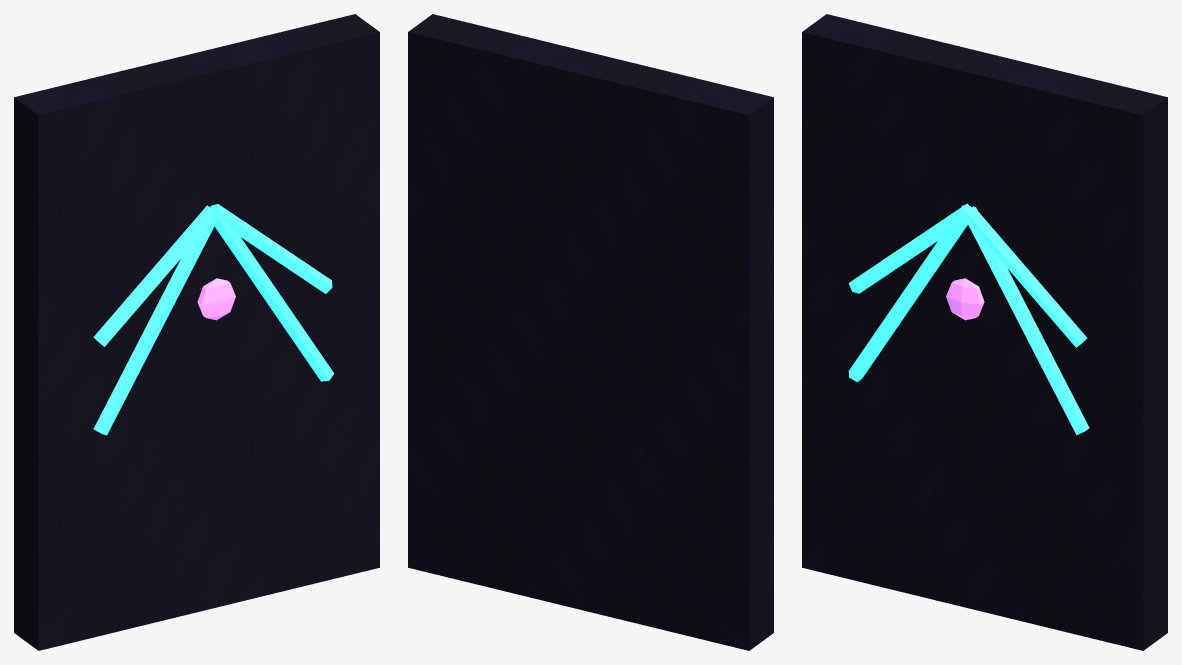
The model's file is Ruin_Observer_Relief.glb.
3 views of the same model, side by side, from view 1: azimuth 30°, elevation 25°; view 2: azimuth 150°, elevation 25°; view 3: azimuth 330°, elevation 25° (orthographic).
Parts seen in each view (by area): view 1: Ruin_Observer_Relief; view 2: Ruin_Observer_Relief; view 3: Ruin_Observer_Relief.
Part boxes in pixels (x1,y1,x2,y2): Ruin_Observer_Relief: (14, 14, 379, 650); Ruin_Observer_Relief: (408, 14, 773, 650); Ruin_Observer_Relief: (802, 14, 1167, 650).
Bounding box in the file's own units: 1.2 × 1.8 × 0.22.
3 materials, 1 textured.
